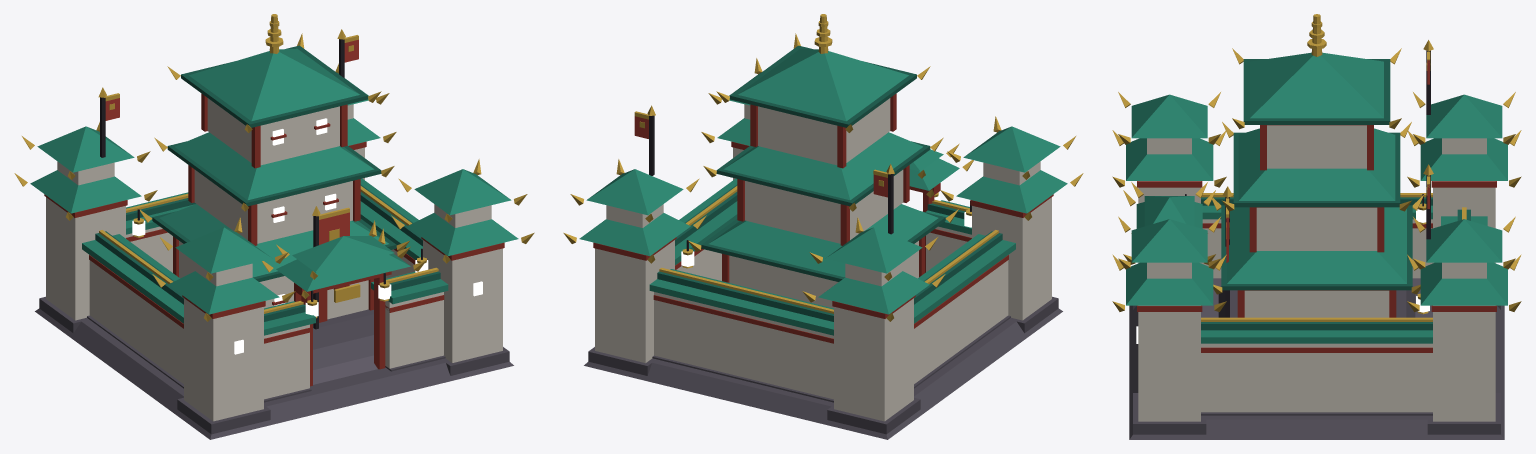
The model's file is castle_t3.glb.
3 views of the same model, side by side, from view 1: azimuth 30°, elevation 25°; view 2: azimuth 150°, elevation 25°; view 3: azimuth 270°, elevation 25° (orthographic). The views are drawn at different scales.
Visible parts, largest first — view 1: body, glow; view 2: body; view 3: body.
Part boxes in pixels (x1,y1,x2,y2): body: (14,14,534,439); glow: (132,118,482,354); body: (563,14,1083,439); body: (1112,14,1521,439).
Bounding box in the file's own units: 4.55 × 4.27 × 4.59.
